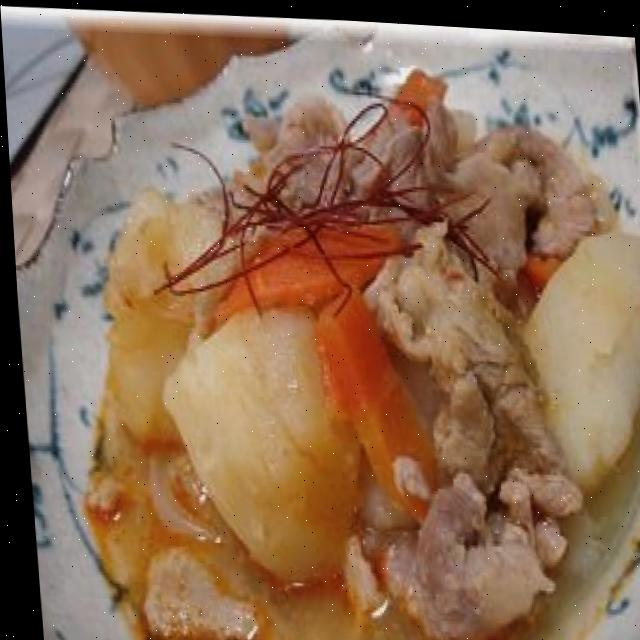牛肉菜式: (3, 21, 640, 640)
